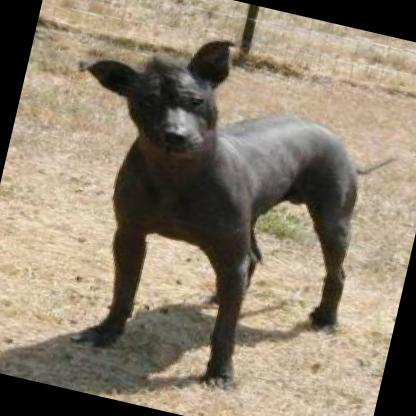Mexican_hairless: (15, 9, 393, 412)
